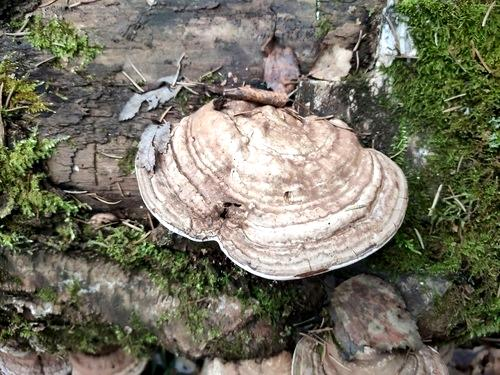Ganoderma - Fruit Body: (136, 96, 408, 280)
